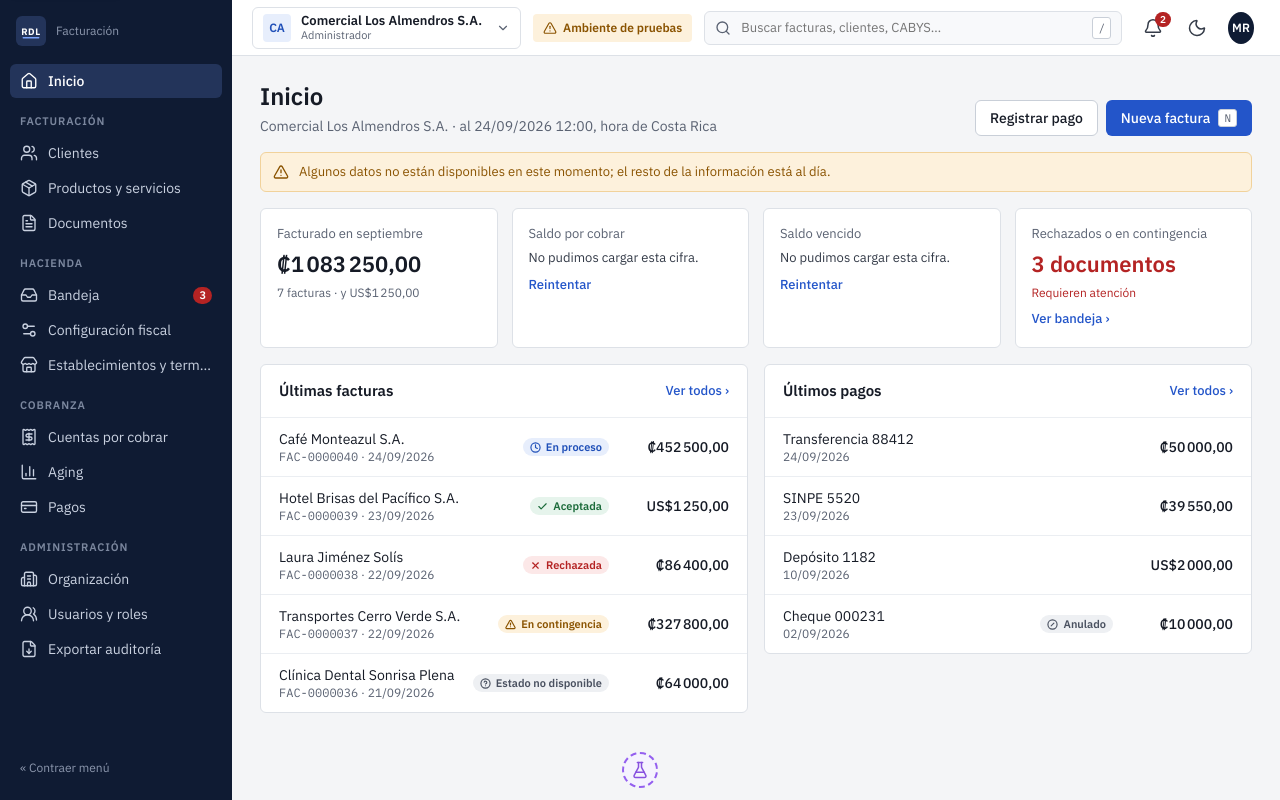
Test: pantalla 6 · inicio › cada bloque falla solo: avisa que hay datos parciales y reintenta ese bloque
This screenshot has width=1280, height=800.
Expected: the text "No pudimos cargar esta cifra." below "Saldo por cobrar" is shown, x1=528 y1=249 x2=699 y2=266
Expected: the text "Algunos datos no están disponibles" is shown, x1=299 y1=163 x2=830 y2=180
Click the button "Reintentar" below "Saldo por cobrar" at (560, 285), box x1=528 y1=273 x2=591 y2=297
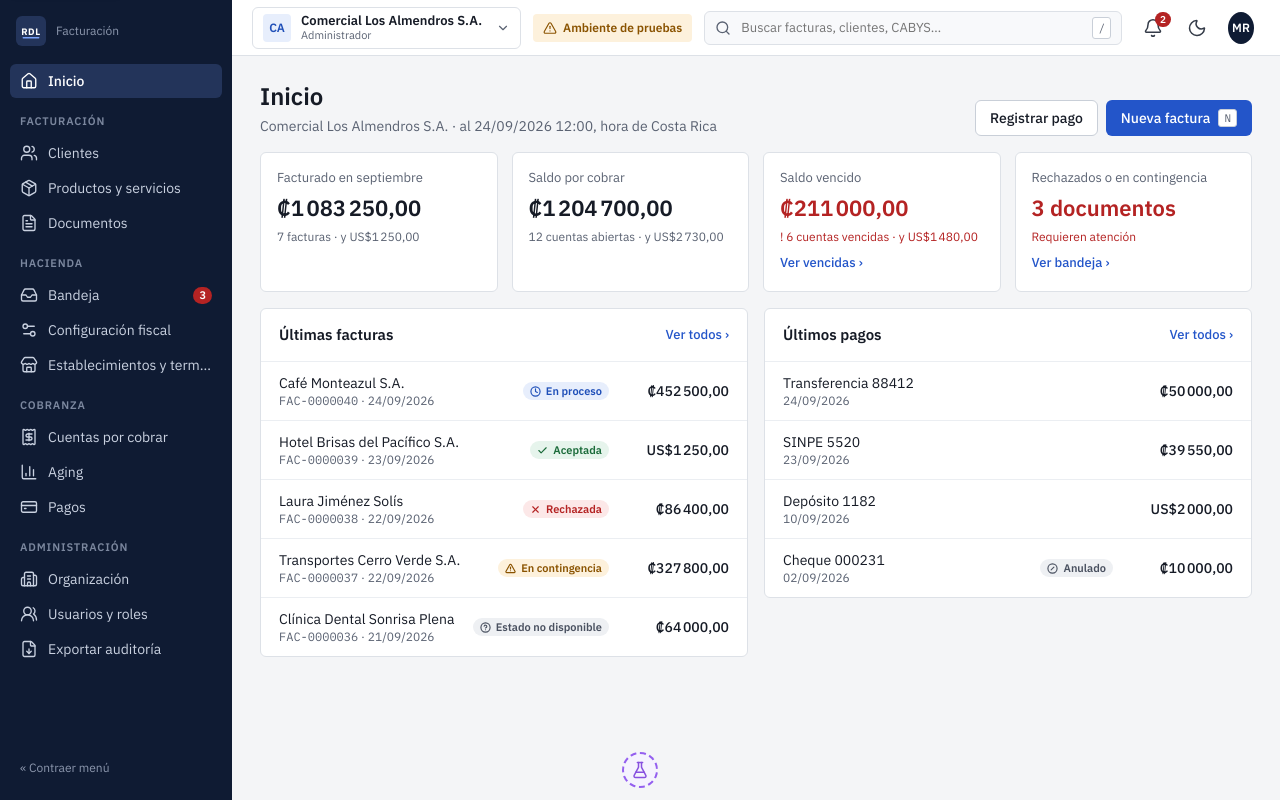
Expected: the text "12 cuentas abiertas · y US$2 730,00" is shown, x1=528 y1=229 x2=724 y2=245
Expected: the text "Algunos datos no están disponibles" is gone
